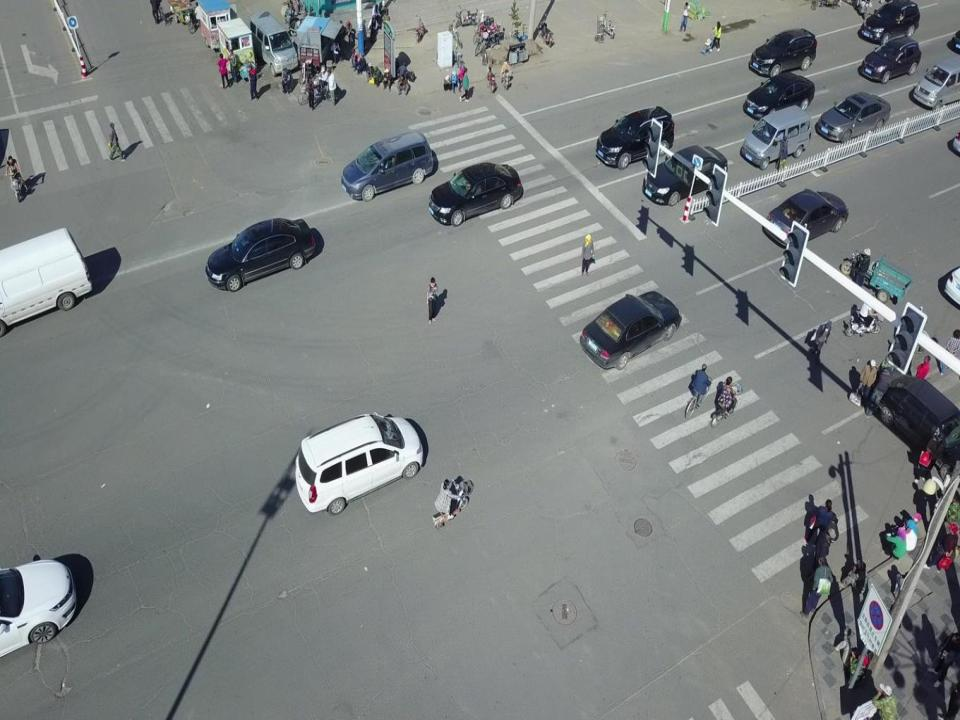car: (294, 413, 424, 514), (205, 216, 316, 292), (0, 555, 80, 657), (580, 292, 680, 369), (342, 132, 434, 200), (428, 162, 523, 226), (642, 146, 727, 207), (762, 188, 848, 248), (596, 108, 676, 170), (813, 93, 892, 140), (743, 72, 816, 118), (750, 31, 818, 76), (860, 36, 922, 83), (860, 0, 920, 45)
van: (874, 365, 960, 482), (0, 228, 92, 337), (739, 110, 810, 170), (249, 12, 299, 76), (913, 54, 960, 111)
